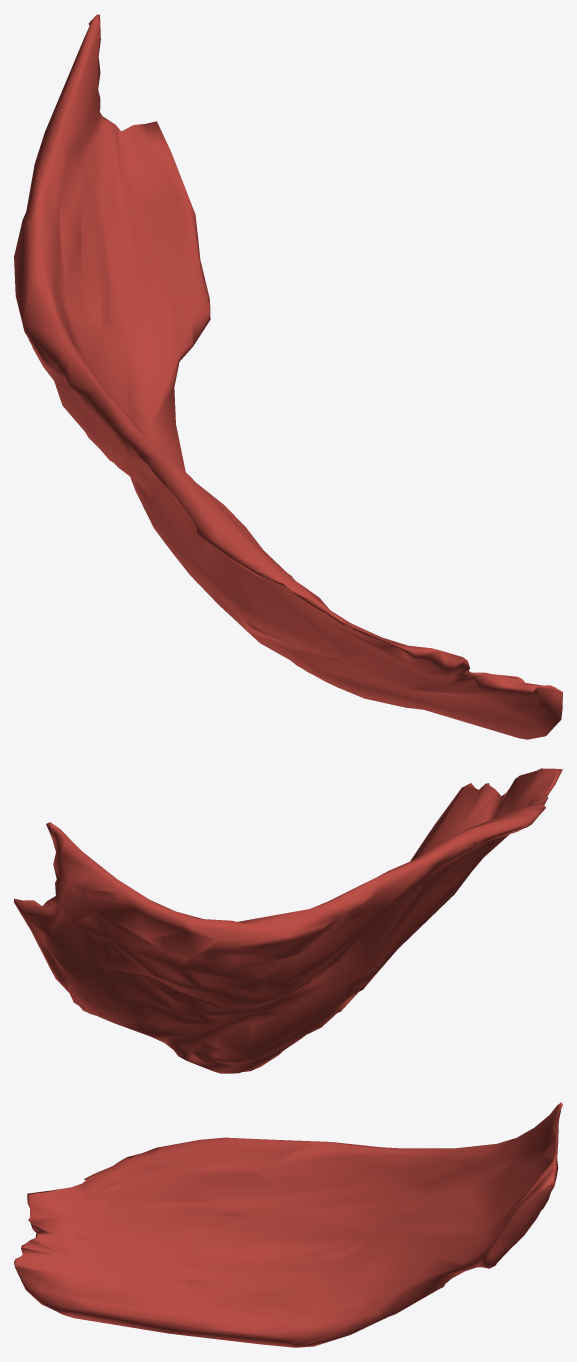
File: musculos-pubococcygeus-muscle-r.glb
The picture shows the model from 3 angles, top to bottom: view 1: azimuth 30°, elevation 25°; view 2: azimuth 150°, elevation 25°; view 3: azimuth 270°, elevation 25°; orthographic projection. The views are drawn at different scales.
Visible parts, largest first — view 1: Pubococcygeus muscle.r; view 2: Pubococcygeus muscle.r; view 3: Pubococcygeus muscle.r.
Part boxes in pixels (<box>): Pubococcygeus muscle.r: <box>14,14,562,739</box>; Pubococcygeus muscle.r: <box>14,768,562,1073</box>; Pubococcygeus muscle.r: <box>14,1102,562,1347</box>.
Bounding box in the file's own units: 0.0333 × 0.0483 × 0.0936.
